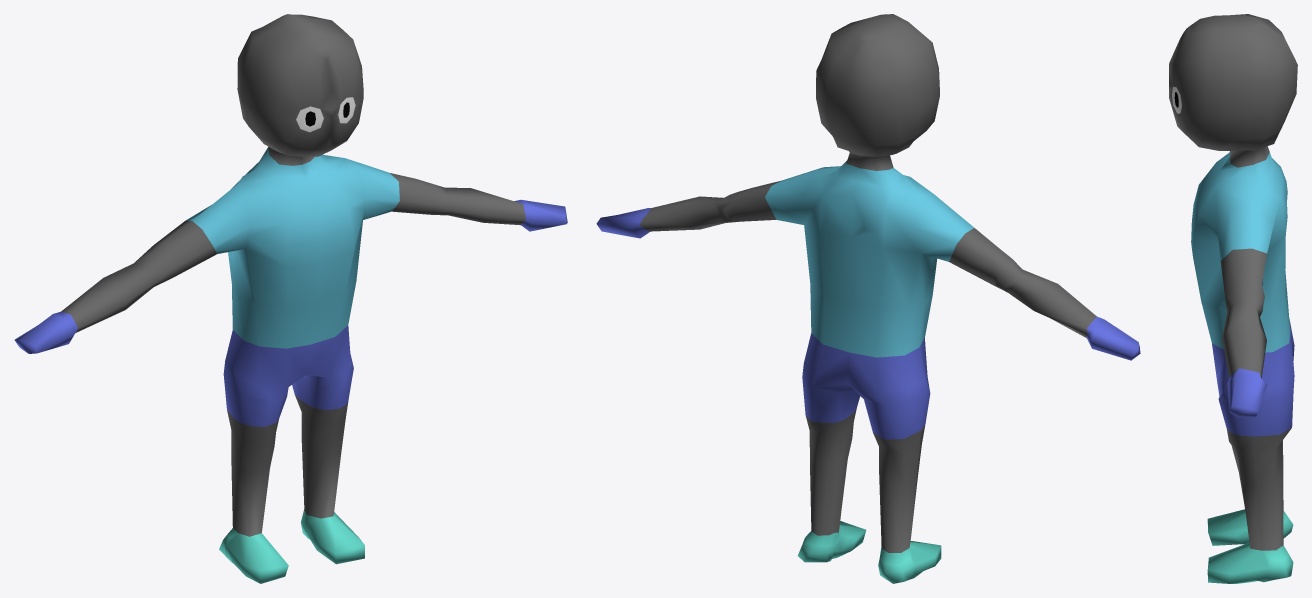
File: Character1_version2.fbx
3 renders of one model, left to right at view 1: azimuth 30°, elevation 25°; view 2: azimuth 150°, elevation 25°; view 3: azimuth 270°, elevation 25°, orthographic.
Parts seen in each view (by area): view 1: Character1; view 2: Character1; view 3: Character1.
Part boxes in pixels (x1,y1,x2,y2): Character1: (14, 14, 567, 583); Character1: (596, 14, 1140, 583); Character1: (1169, 14, 1297, 583).
Bounding box in the file's own units: 1.3 × 0.2662 × 1.24.
